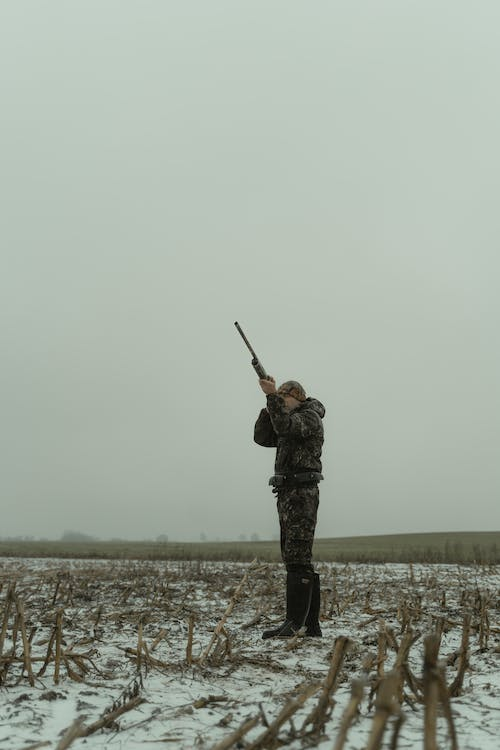gun: (233, 316, 270, 382)
